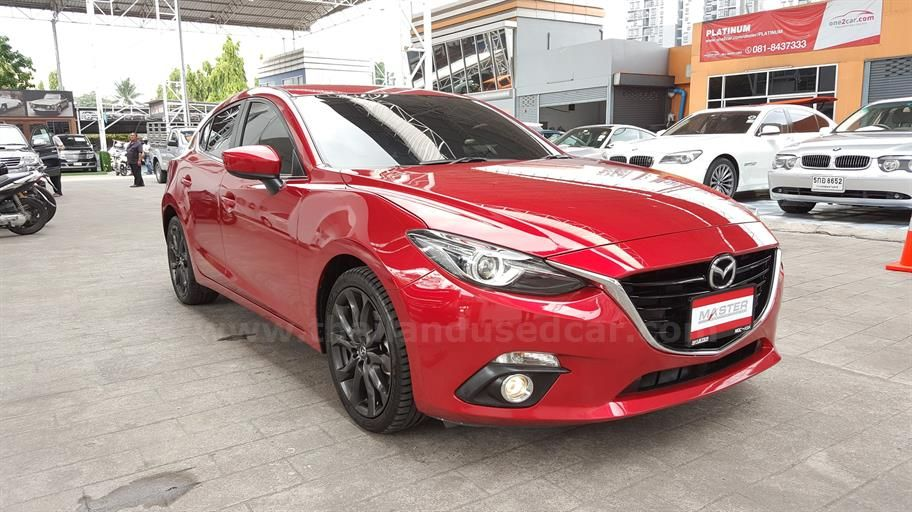sedan: (159, 82, 790, 437)
